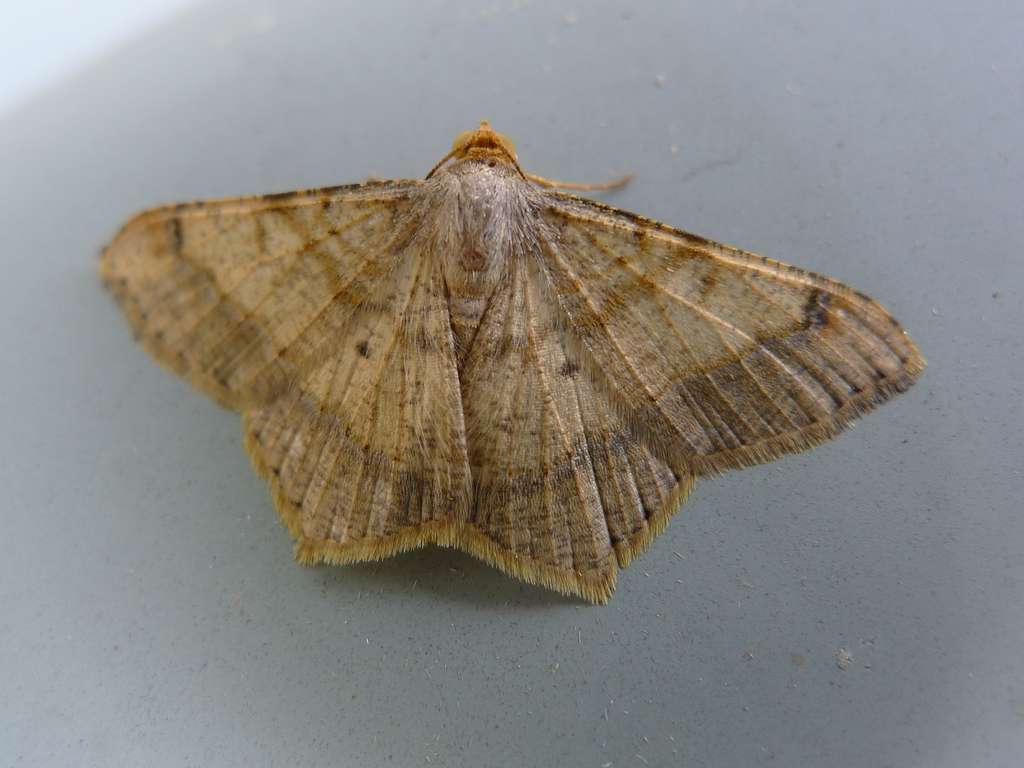Butterfly: (77, 117, 930, 626)
